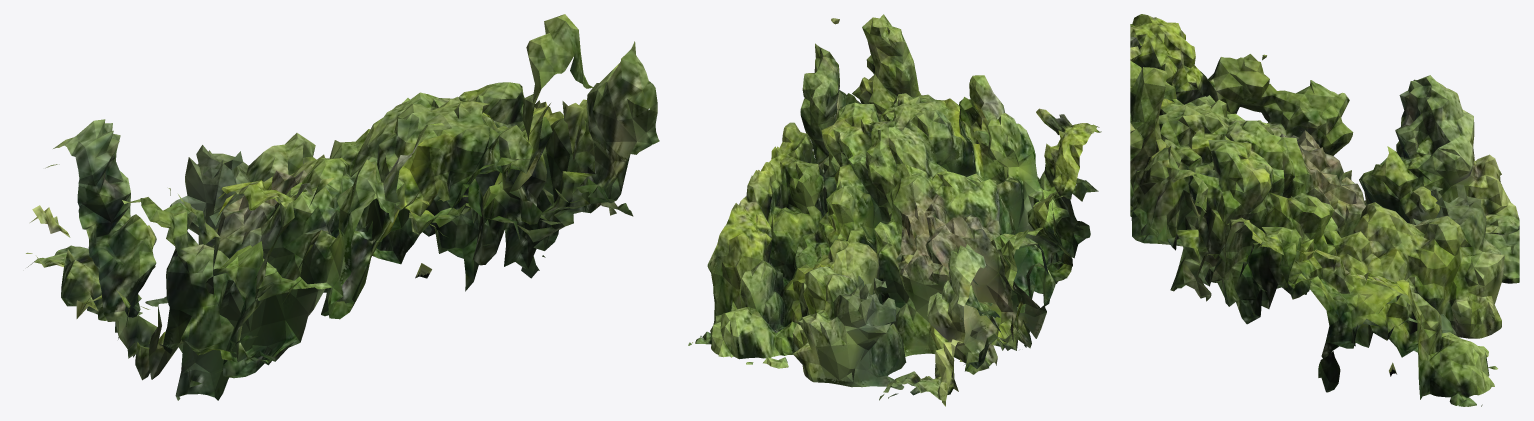
3 renders of one model, left to right at view 1: azimuth 30°, elevation 25°; view 2: azimuth 150°, elevation 25°; view 3: azimuth 270°, elevation 25°, orthographic. The views are drawn at different scales.
Size of the model in its own units: 52.22 by 45.17 by 52.22.
7 materials, 7 textured.
